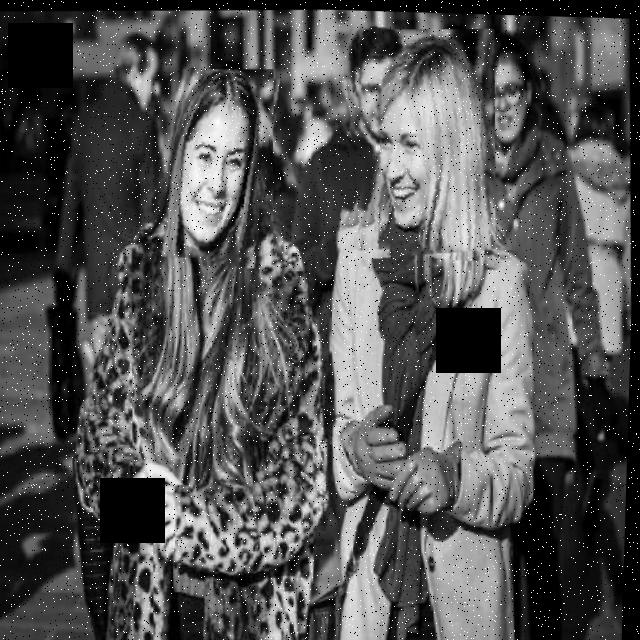happy: (337, 21, 502, 261), (163, 64, 281, 267)
